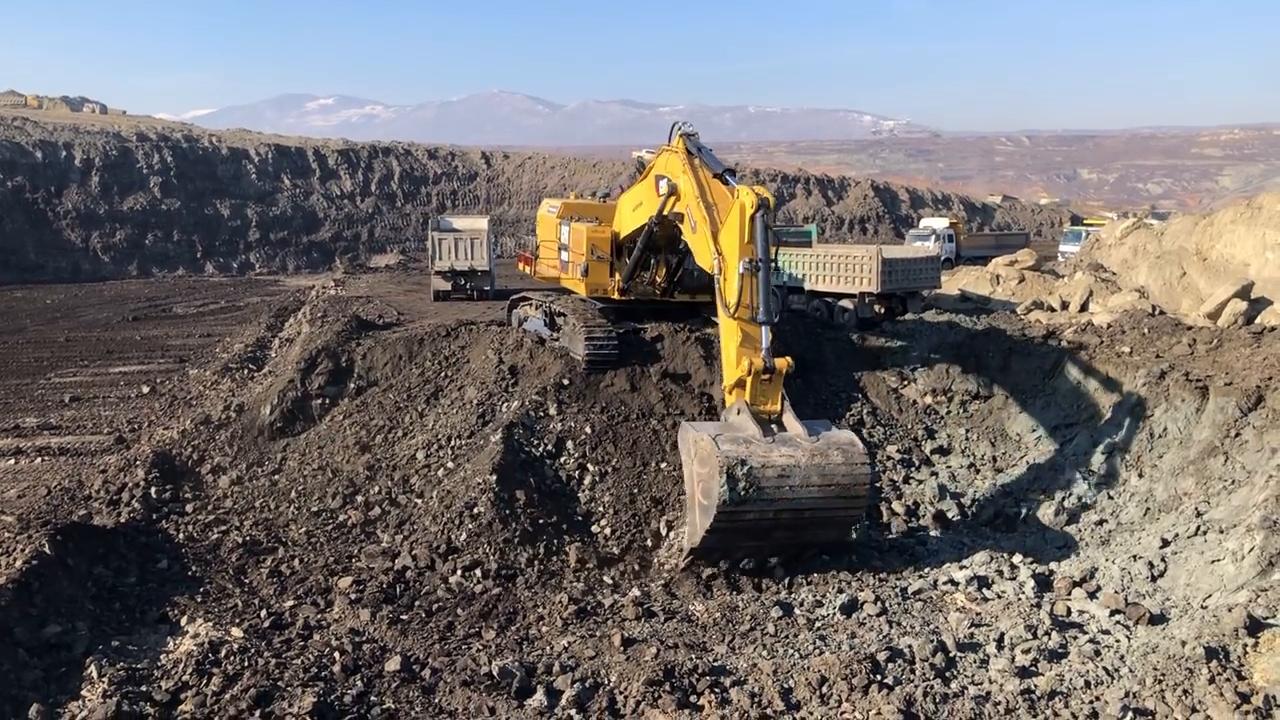empty: (668, 414, 878, 578)
